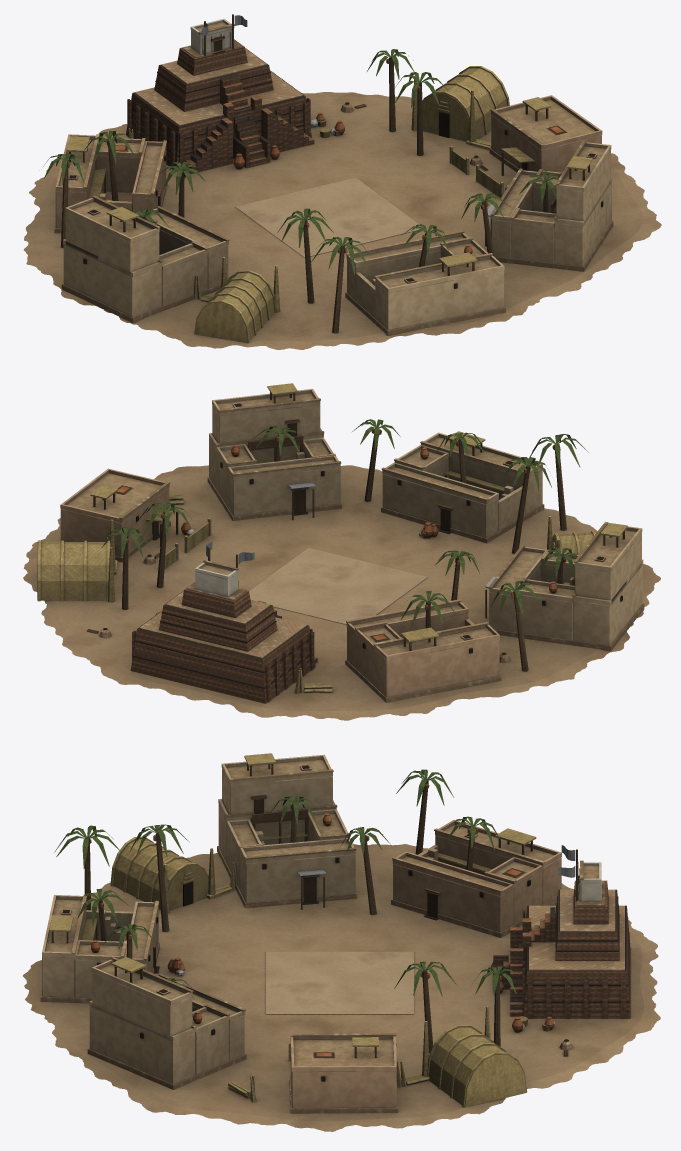
The model's file is bronze-town-small-a-mesopotamia.glb.
The picture shows the model from 3 angles, top to bottom: view 1: azimuth 30°, elevation 25°; view 2: azimuth 150°, elevation 25°; view 3: azimuth 270°, elevation 25°; orthographic projection. The views are drawn at different scales.
Visible parts, largest first — view 1: LOD0; view 2: LOD0; view 3: LOD0.
Part boxes in pixels (<box>): LOD0: <box>24,14,661,349</box>; LOD0: <box>23,383,660,720</box>; LOD0: <box>23,753,660,1131</box>.
Size of what is drawn, in the model's own units: 3.98 by 0.8214 by 3.71.
Materials: 3 (3 with a texture image).
